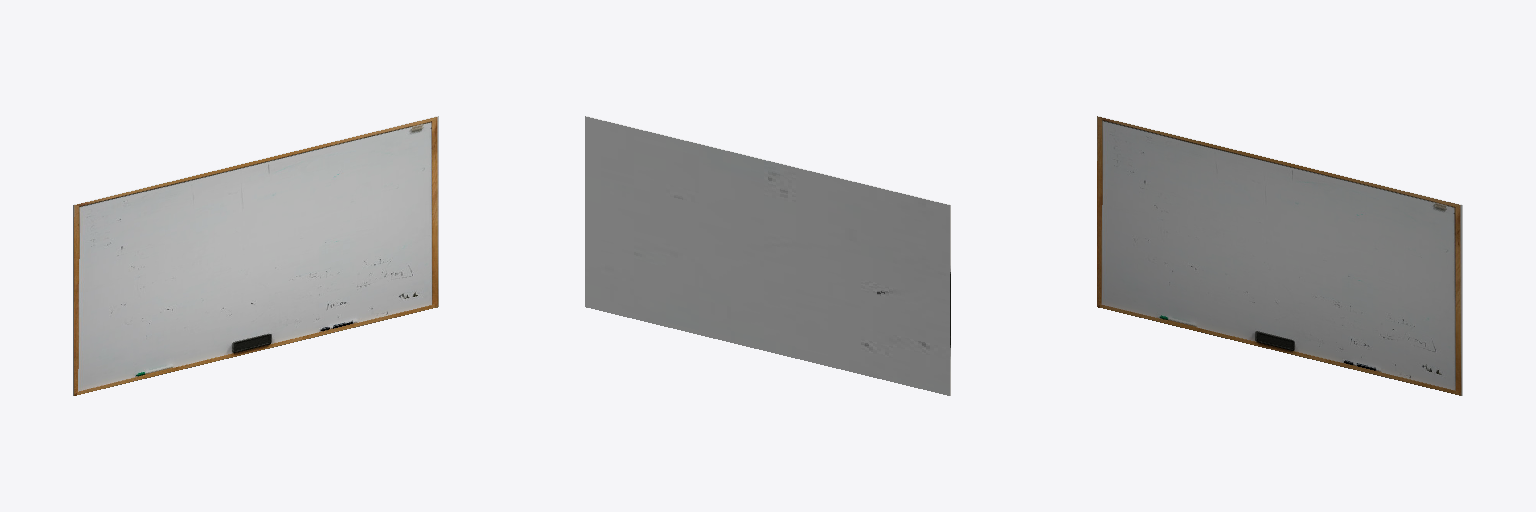
The picture shows the model from 3 angles: view 1: azimuth 30°, elevation 25°; view 2: azimuth 150°, elevation 25°; view 3: azimuth 330°, elevation 25°; orthographic projection.
Parts seen in each view (by area): view 1: Cube_Cube.001; view 2: Cube_Cube.001; view 3: Cube_Cube.001.
Part boxes in pixels (x1,y1,x2,y2): Cube_Cube.001: (73, 116, 438, 395); Cube_Cube.001: (585, 116, 950, 395); Cube_Cube.001: (1097, 116, 1462, 395).
Bounding box in the file's own units: 6 × 3 × 0.02.
Materials: 1 (1 with a texture image).